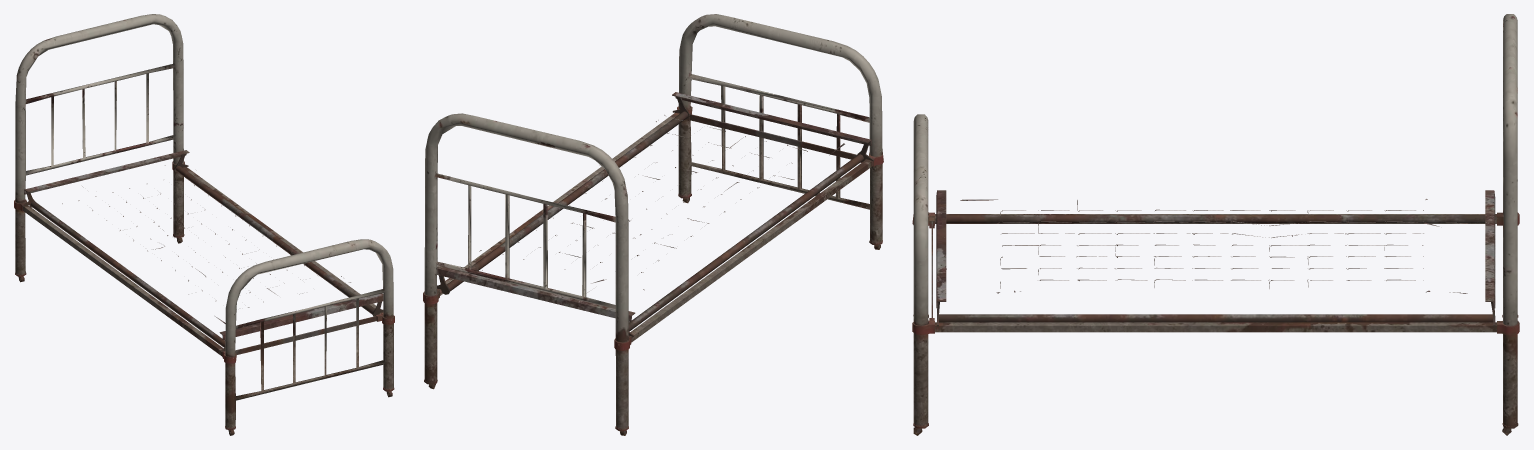
The model's file is old_bed_frame.glb.
3 views of the same model, side by side, from view 1: azimuth 30°, elevation 25°; view 2: azimuth 150°, elevation 25°; view 3: azimuth 270°, elevation 25° (orthographic). The views are drawn at different scales.
Parts seen in each view (by area): view 1: old_bed_frame; view 2: old_bed_frame; view 3: old_bed_frame.
Boxes of the visible parts, box(x1,y1,x2,y2) form: old_bed_frame: box(14, 14, 394, 435); old_bed_frame: box(423, 14, 883, 435); old_bed_frame: box(912, 14, 1519, 435).
Size of the model in its own units: 0.9047 by 1.2 by 2.
Materials: 1 (1 with a texture image).
